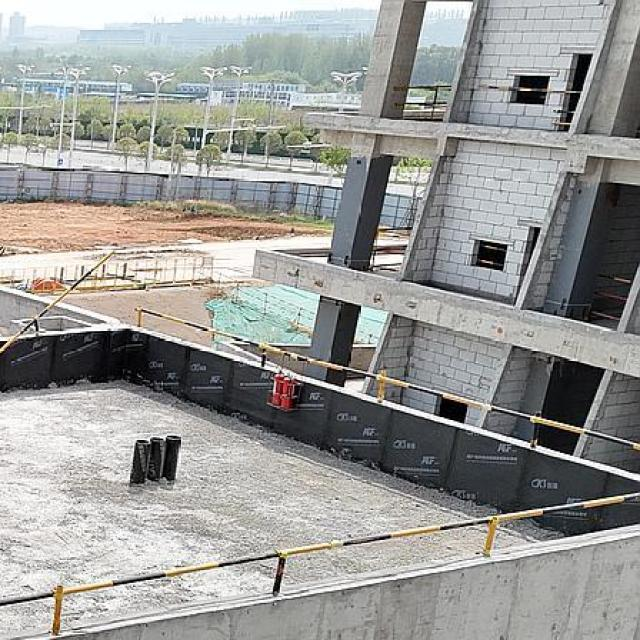edge_guardrail: (0, 305, 640, 638), (0, 251, 116, 358), (546, 272, 633, 322), (486, 84, 584, 126), (368, 226, 412, 273), (402, 85, 452, 118), (476, 243, 506, 267)
